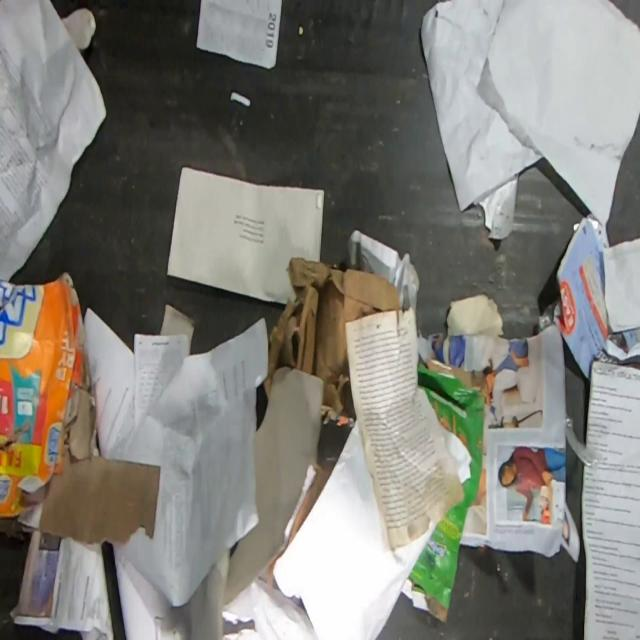cardboard: (0, 271, 160, 543), (264, 255, 402, 426), (406, 356, 485, 619)
soft_plastic: (566, 413, 601, 467)
